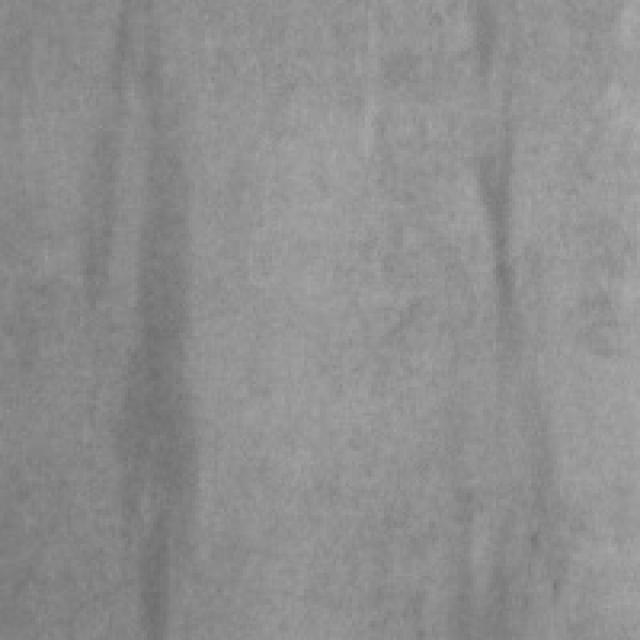inclusion: (93, 9, 195, 598), (464, 140, 531, 362)
